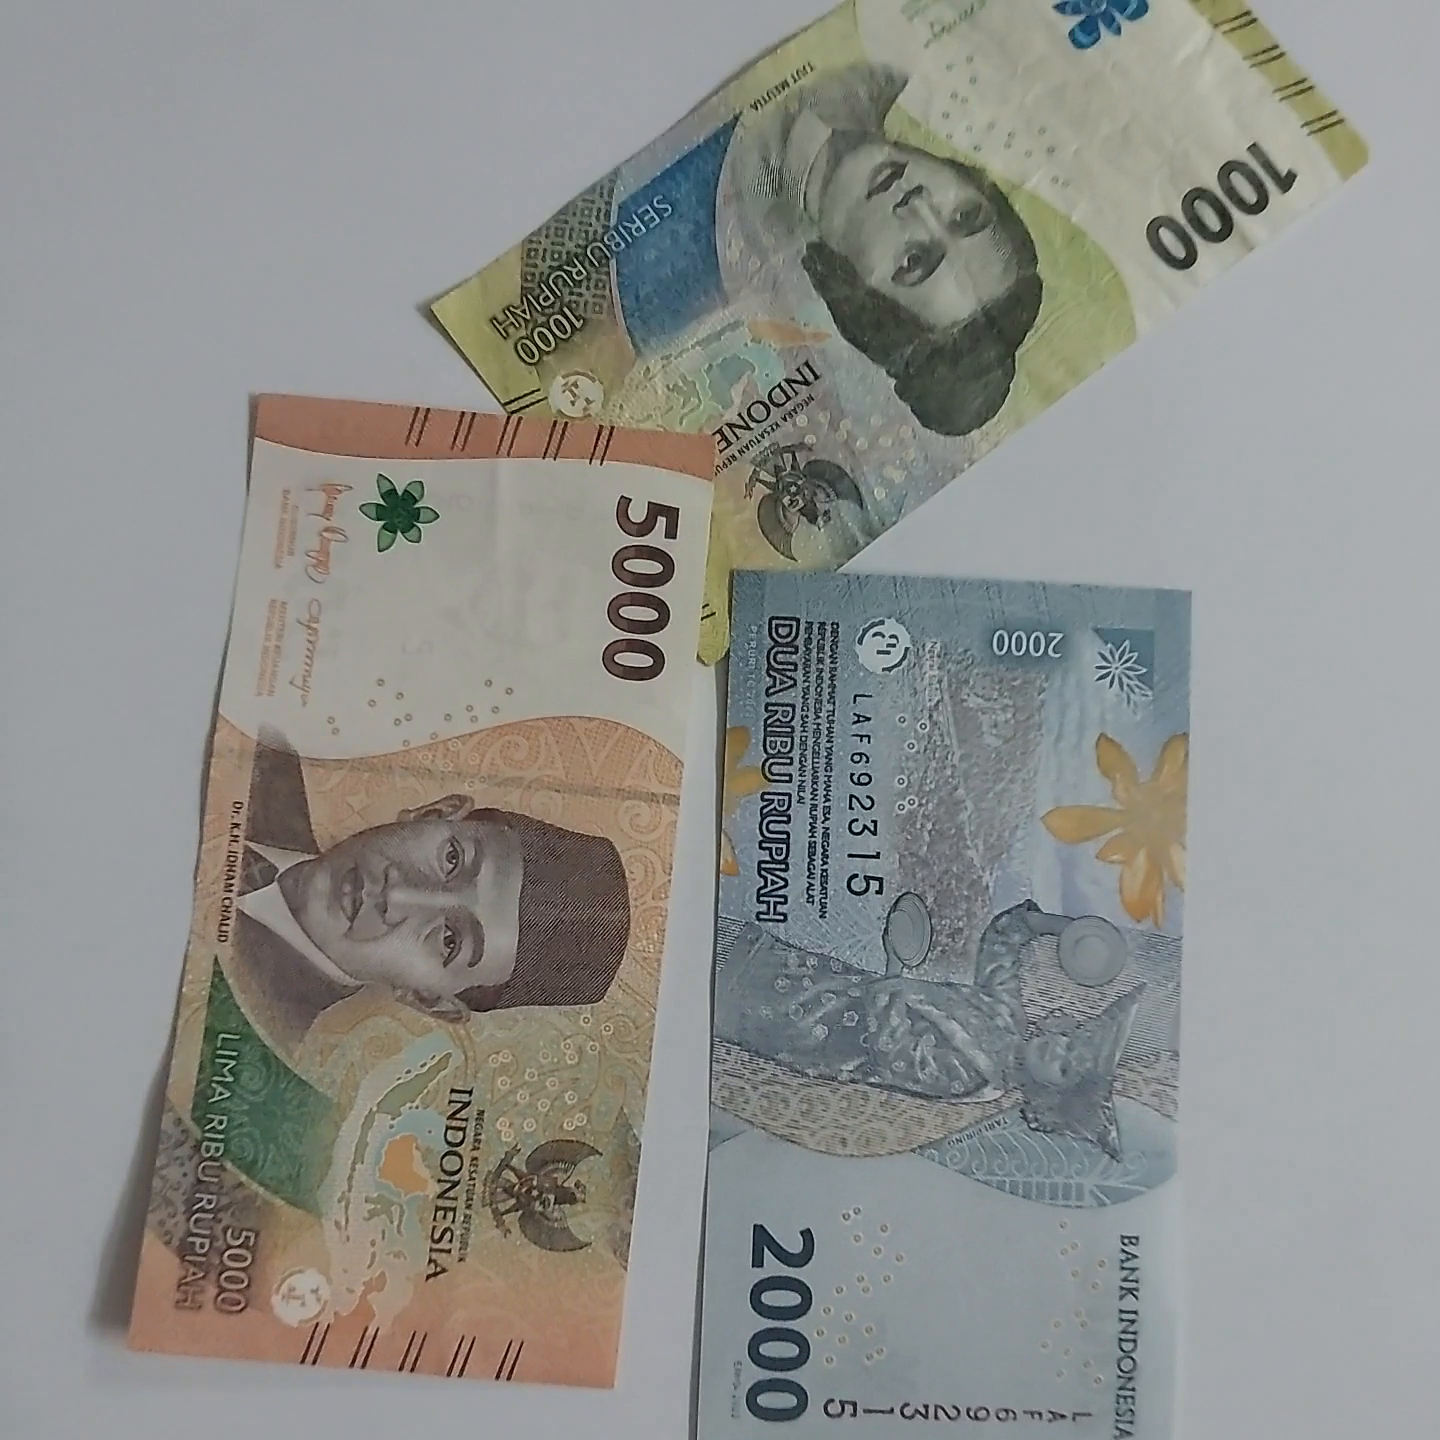1k: (415, 0, 1378, 605)
2k: (727, 560, 1184, 1440)
5k: (232, 357, 705, 1367)
